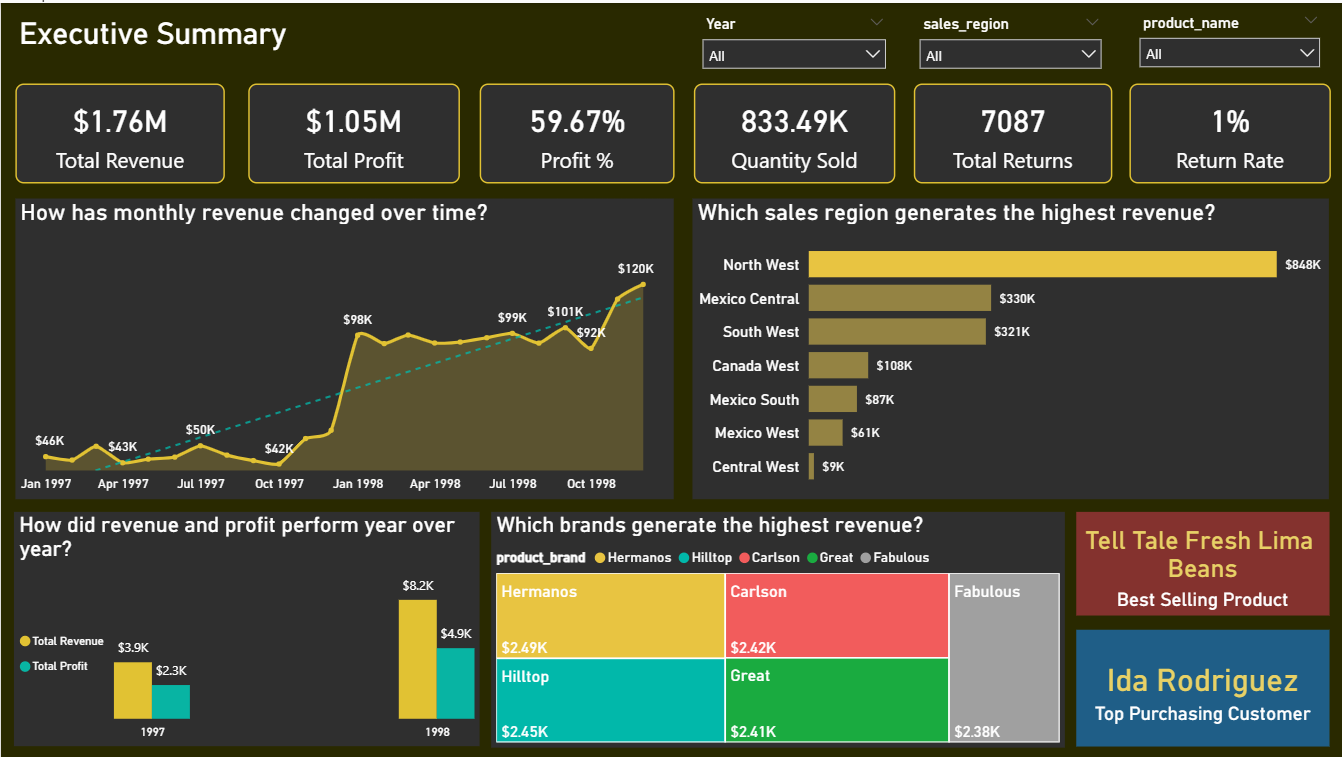

The dashboard page shown, as its layout file describes it:
{"tool":"powerbi","page":{"name":"Executive Summary","canvas":[1280,720],"ordinal":0},"visuals":[{"type":"card","fields":{"Values":["Measure.Total Revenue"]},"box":[13.7,76.7,199.9,95.3],"z":0,"group":"g1"},{"type":"clusteredBarChart","title":"Which sales region generates the highest  revenue?","fields":{"Category":["Regions.sales_region","Regions.sales_district"],"Y":["Measure.Total Revenue"]},"box":[659,186.3,606.9,286.3],"z":0},{"type":"treemap","title":"Which brands generate the highest revenue?","fields":{"Group":["Products.product_brand"],"Values":["Measure.Total Revenue"]},"box":[467.2,485,546.7,224.7],"z":1000},{"type":"card","fields":{"Values":["Measure.Total Profit"]},"box":[235.5,76.7,201.5,95.3],"z":2000,"group":"g1"},{"type":"clusteredColumnChart","title":"How did revenue and profit perform year over year?","fields":{"Category":["Calender.Year"],"Y":["Measure.Total Revenue","Measure.Total Profit"]},"box":[12.3,485,443.9,223.3],"z":2000},{"type":"card","fields":{"Values":["Measure.Top Purchasing Customer"]},"box":[1024.8,597.4,241.1,111],"z":3000},{"type":"card","fields":{"Values":["Measure.Profit %"]},"box":[455.7,76.7,185.9,95.3],"z":4000,"group":"g1"},{"type":"card","fields":{"Values":["Measure.Best Selling Product"]},"box":[1024.8,485,241.1,98.6],"z":4000},{"type":"group","id":"g1","title":"Group 1","box":[13.7,76.7,1253.6,94.5],"z":5000},{"type":"textbox","box":[12.8,7.1,393.3,52.5],"z":6000},{"type":"card","fields":{"Values":["Measure.Quantity Sold"]},"box":[660.3,76.7,192.1,95.3],"z":6000,"group":"g1"},{"type":"lineChart","title":"How has monthly revenue changed over time?","fields":{"Y":["Measure.Total Revenue"],"Category":["Calender.Start of Month"]},"box":[13.7,186.3,627.5,286.3],"z":7000},{"type":"slicer","fields":{"Values":["Calender.Year"]},"box":[658.5,7.5,194.4,62.7],"z":8000},{"type":"card","fields":{"Values":["Measure.Total Returns"]},"box":[869.6,76.7,189,95.3],"z":8000,"group":"g1"},{"type":"slicer","fields":{"Values":["Regions.sales_region"]},"box":[865.5,7.5,193.2,69],"z":9000},{"type":"slicer","fields":{"Values":["Products.product_name"]},"box":[1076.2,5,191.9,61.5],"z":10000},{"type":"card","fields":{"Values":["Measure.Return Rate"]},"box":[1075.7,76.7,192.1,95.3],"z":10000,"group":"g1"}]}

Visuals, with their boxes in screenshot pixels (x1, y1, x2, y2), scaled from the page's 1280x720 canvas onto the 1342x757 screenshot:
card - Measure.Total Revenue: bbox(14, 81, 224, 181)
"Which sales region generates the highest  revenue?" clusteredBarChart: bbox(691, 196, 1327, 497)
"Which brands generate the highest revenue?" treemap: bbox(490, 510, 1063, 746)
card - Measure.Total Profit: bbox(247, 81, 458, 181)
"How did revenue and profit perform year over year?" clusteredColumnChart: bbox(13, 510, 478, 745)
card - Measure.Top Purchasing Customer: bbox(1074, 628, 1327, 745)
card - Measure.Profit %: bbox(478, 81, 673, 181)
card - Measure.Best Selling Product: bbox(1074, 510, 1327, 614)
"Group 1" group: bbox(14, 81, 1329, 180)
textbox: bbox(13, 7, 426, 63)
card - Measure.Quantity Sold: bbox(692, 81, 894, 181)
"How has monthly revenue changed over time?" lineChart: bbox(14, 196, 672, 497)
slicer - Calender.Year: bbox(690, 8, 894, 74)
card - Measure.Total Returns: bbox(912, 81, 1110, 181)
slicer - Regions.sales_region: bbox(907, 8, 1110, 80)
slicer - Products.product_name: bbox(1128, 5, 1330, 70)
card - Measure.Return Rate: bbox(1128, 81, 1329, 181)
